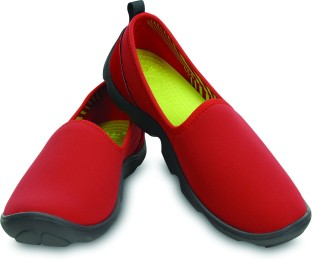Shoes: (9, 10, 312, 253)
